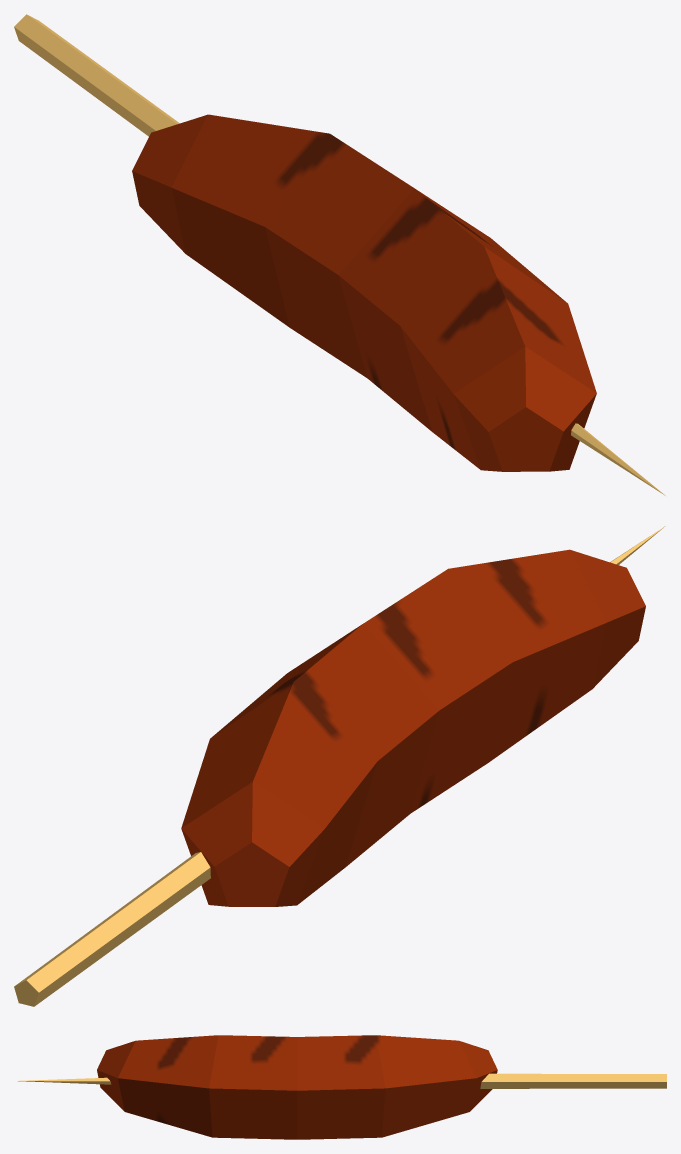
The model's file is SausageWithStick.Ani.fbx.
3 renders of one model, top to bottom at view 1: azimuth 30°, elevation 25°; view 2: azimuth 150°, elevation 25°; view 3: azimuth 270°, elevation 25°, orthographic. The views are drawn at different scales.
Visible parts, largest first — view 1: SauStick; view 2: SauStick; view 3: SauStick.
Boxes of the visible parts, box(x1,y1,x2,y2) form: SauStick: box(14, 14, 665, 495); SauStick: box(14, 526, 665, 1006); SauStick: box(18, 1035, 666, 1139).
Bounding box in the file's own units: 48.31 × 45.71 × 297.
Materials: 2 (1 with a texture image).
